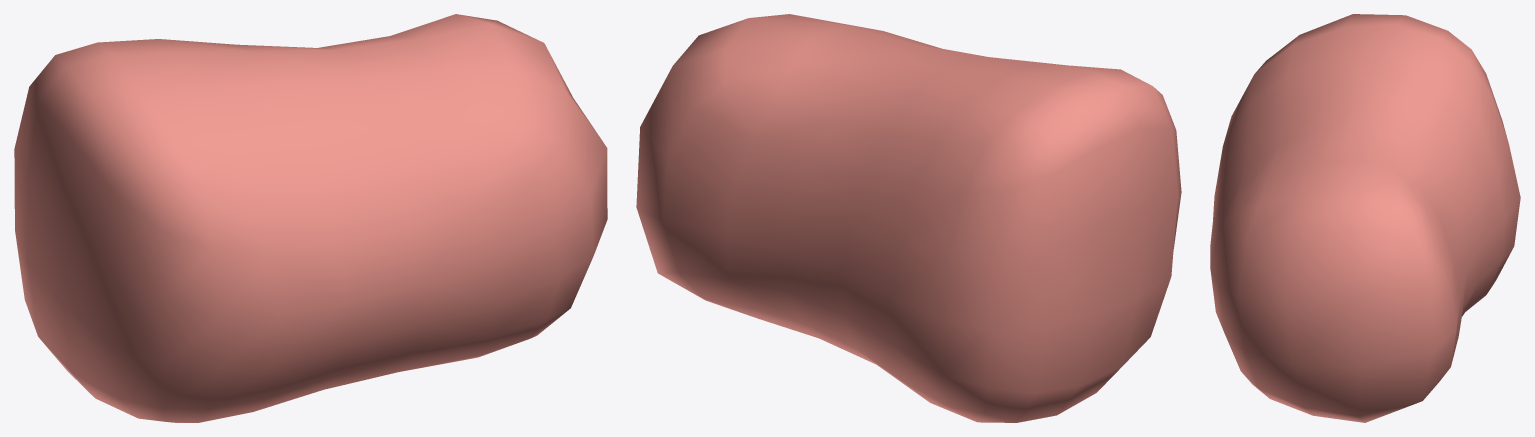
File: mixamo_humanoid_surface_leftHandMiddle1.fbx
3 renders of one model, left to right at view 1: azimuth 30°, elevation 25°; view 2: azimuth 150°, elevation 25°; view 3: azimuth 270°, elevation 25°, orthographic. The views are drawn at different scales.
Parts seen in each view (by area): view 1: surface_LeftHandMiddle1; view 2: surface_LeftHandMiddle1; view 3: surface_LeftHandMiddle1.
Boxes of the visible parts, box(x1,y1,x2,y2) form: surface_LeftHandMiddle1: box(14, 14, 607, 422); surface_LeftHandMiddle1: box(636, 14, 1181, 422); surface_LeftHandMiddle1: box(1210, 14, 1520, 422).
Bounding box in the file's own units: 3.57 × 2.27 × 2.37.
